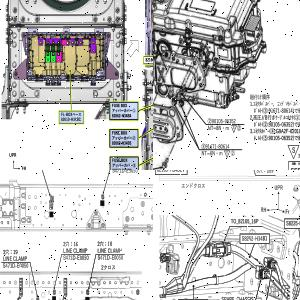PartNumber: (241, 234, 268, 242), (268, 134, 293, 141), (212, 117, 236, 124), (269, 107, 293, 114), (62, 255, 88, 261), (268, 121, 293, 127), (3, 263, 28, 269), (98, 254, 123, 260), (206, 143, 230, 149), (111, 140, 132, 146), (275, 128, 300, 133), (112, 113, 132, 119), (285, 219, 300, 227), (60, 117, 82, 122), (112, 170, 138, 174), (111, 167, 132, 170), (156, 170, 185, 172)
